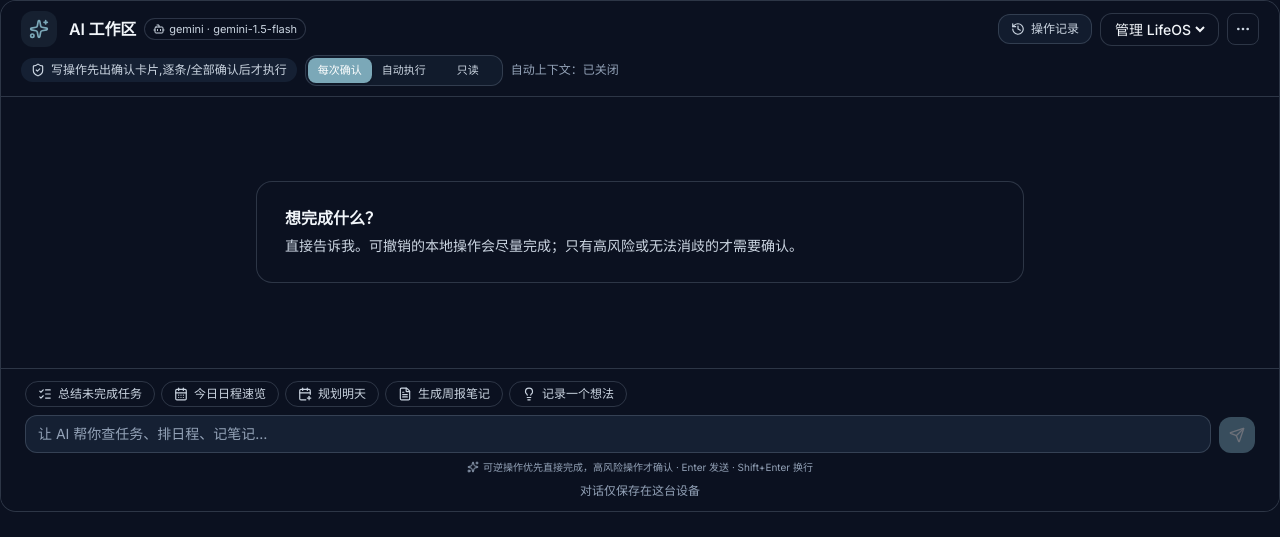
AICommandCenter — full management loop › proposes a confirmation card and creates the task only after approval
Type "帮我创建一个高优先级任务：买牛奶" into the text box with test id "agent-composer-input" at point(618, 434), box [25,415,1211,453]
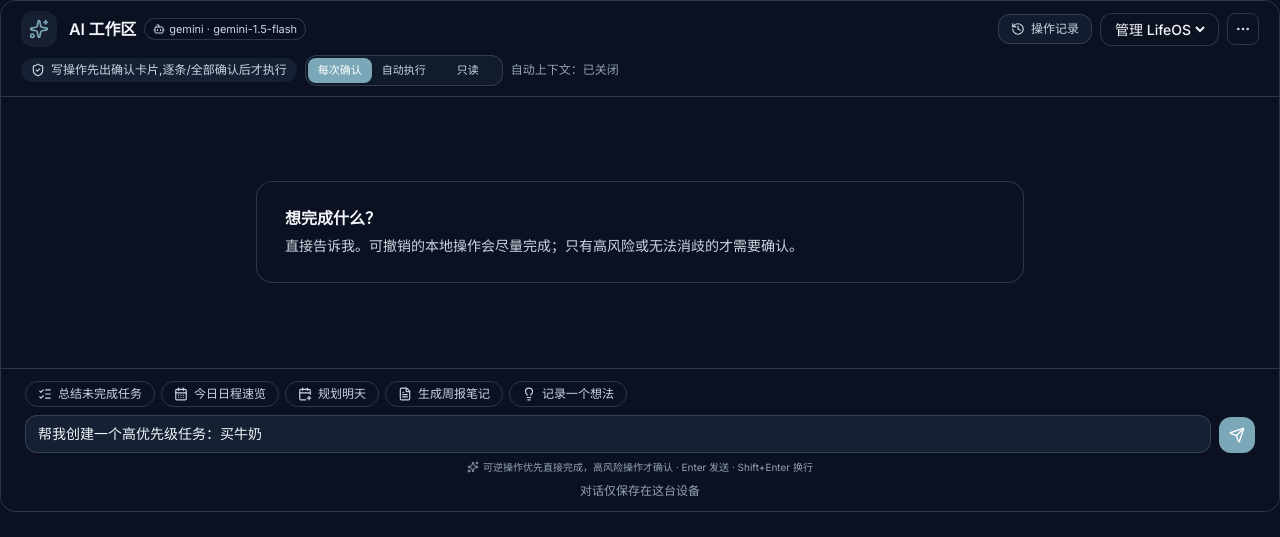
Click the button named "发送" at point(1237, 435), box [1219,417,1255,453]
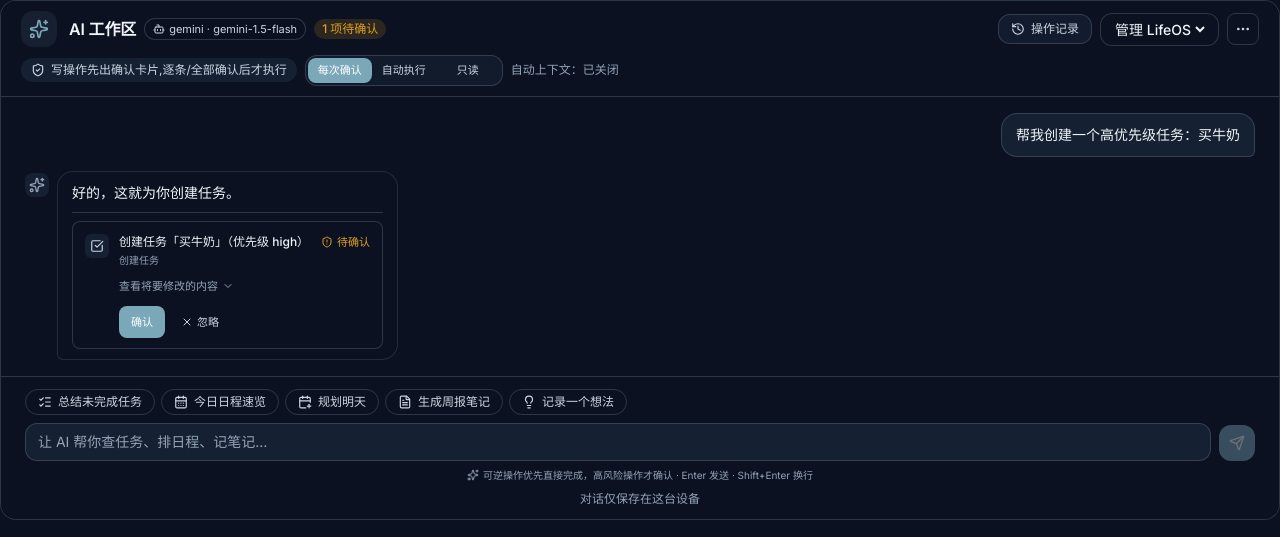
Expected: the text "创建任务「买牛奶」（优先级 high）" is shown, [119,232,309,252]
Expected: the text "待确认" is shown, [321,232,370,252]
# User approves
Click the button with aria-label "确认执行" at point(142, 322), box [119,306,165,338]
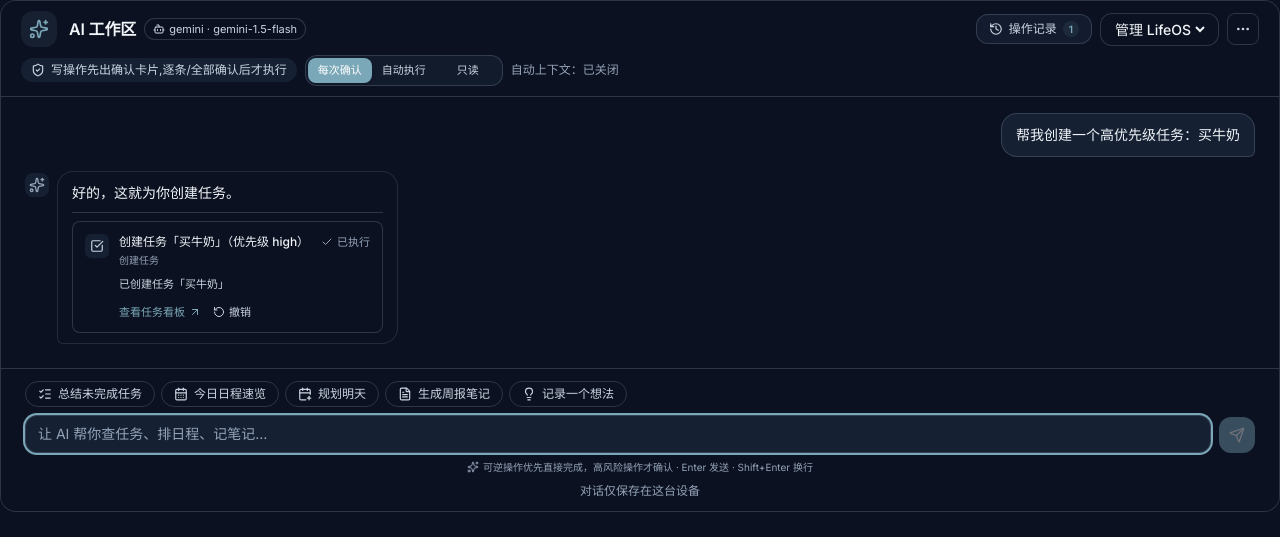
Expected: the text "已执行" is shown, [321,232,370,252]
